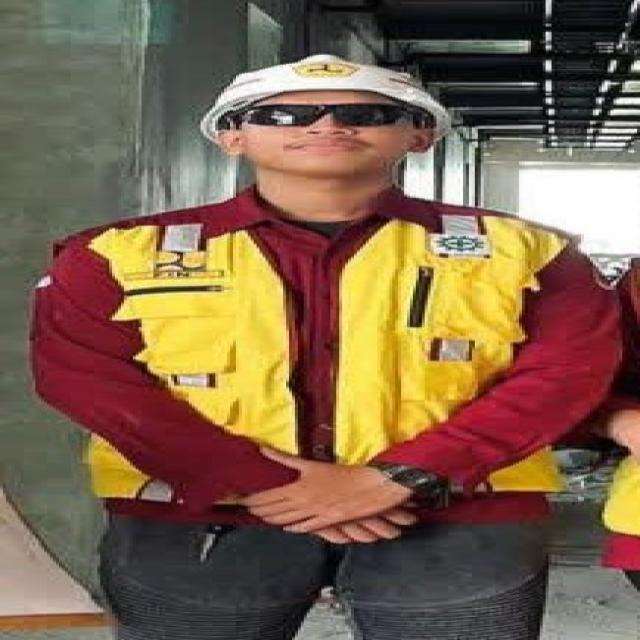safetyhelmet: (199, 56, 462, 182)
